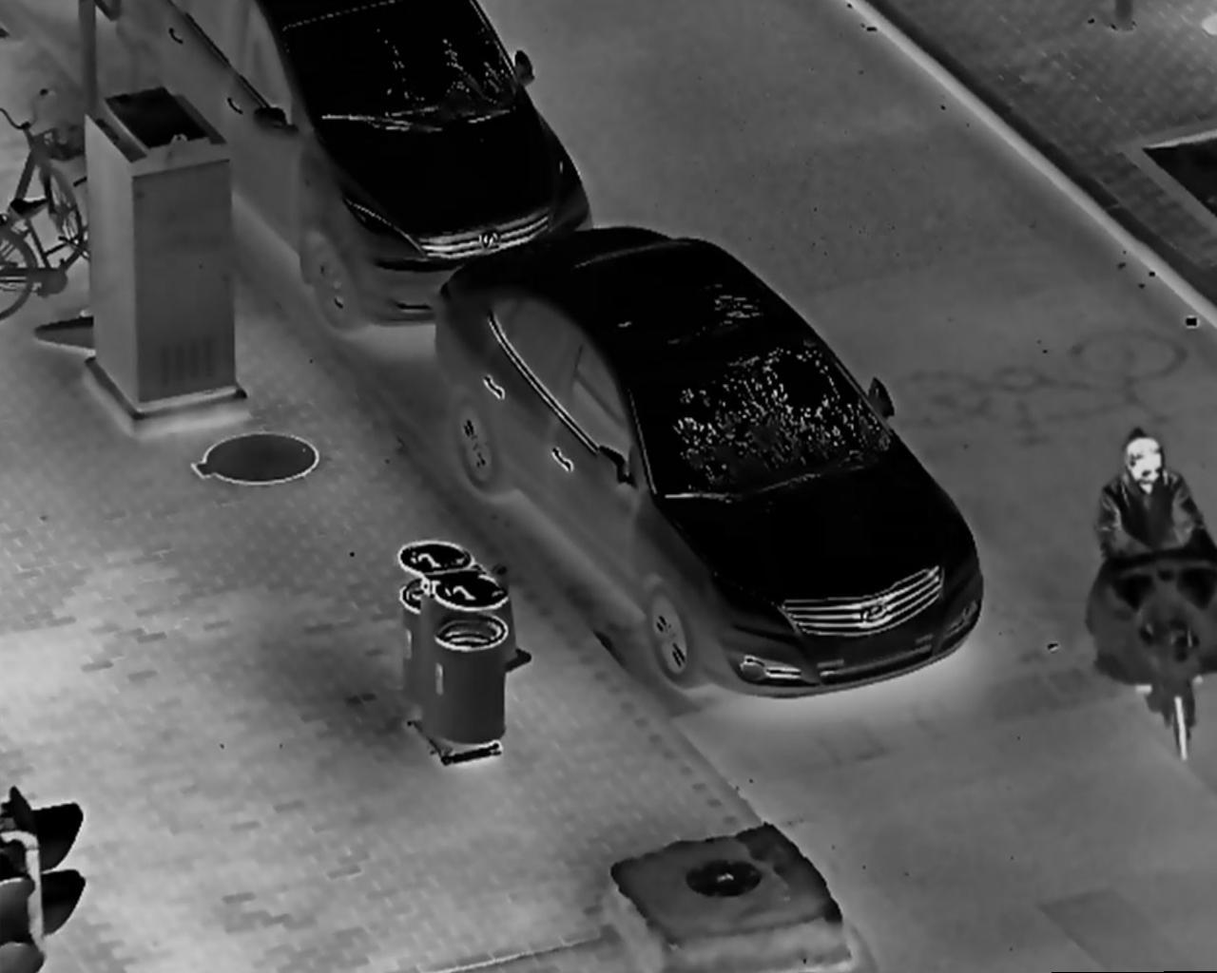person: (1088, 433, 1217, 676)
